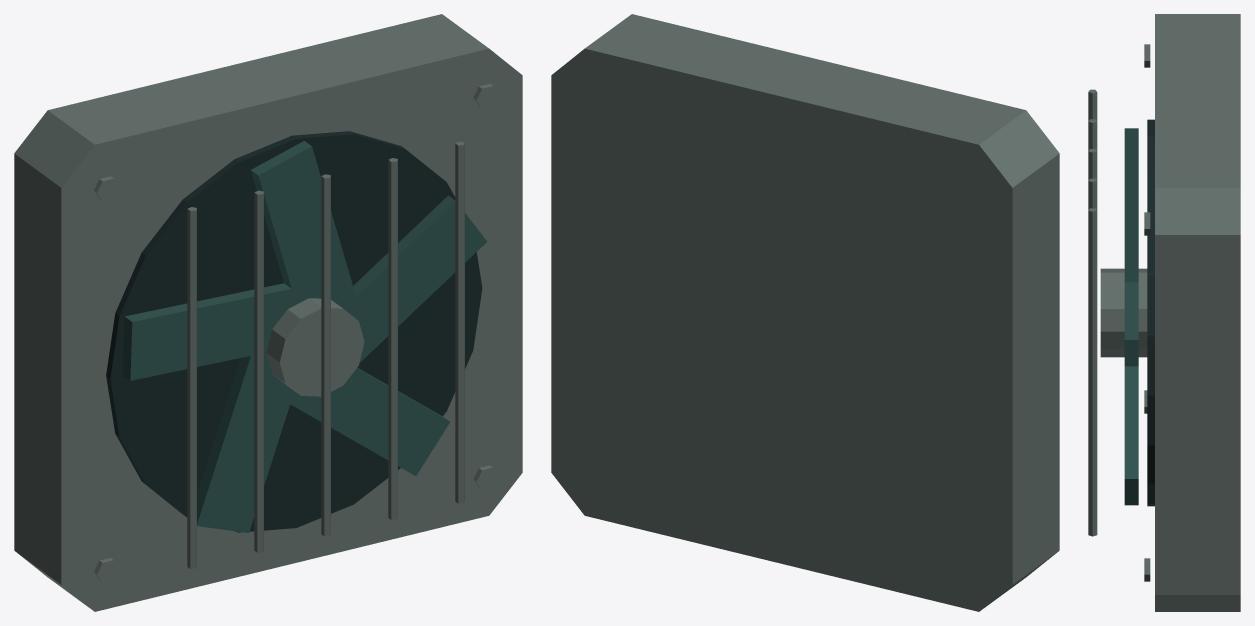
The model's file is wall-fan.glb.
3 renders of one model, left to right at view 1: azimuth 30°, elevation 25°; view 2: azimuth 150°, elevation 25°; view 3: azimuth 270°, elevation 25°, orthographic. The views are drawn at different scales.
Visible parts, largest first — view 1: wall-fan; view 2: wall-fan; view 3: wall-fan.
Boxes of the visible parts, <box> form: wall-fan: <box>14,14,522,611</box>; wall-fan: <box>551,14,1059,611</box>; wall-fan: <box>1088,14,1240,611</box>.
Bounding box in the file's own units: 0.62 × 0.6 × 0.1957.
